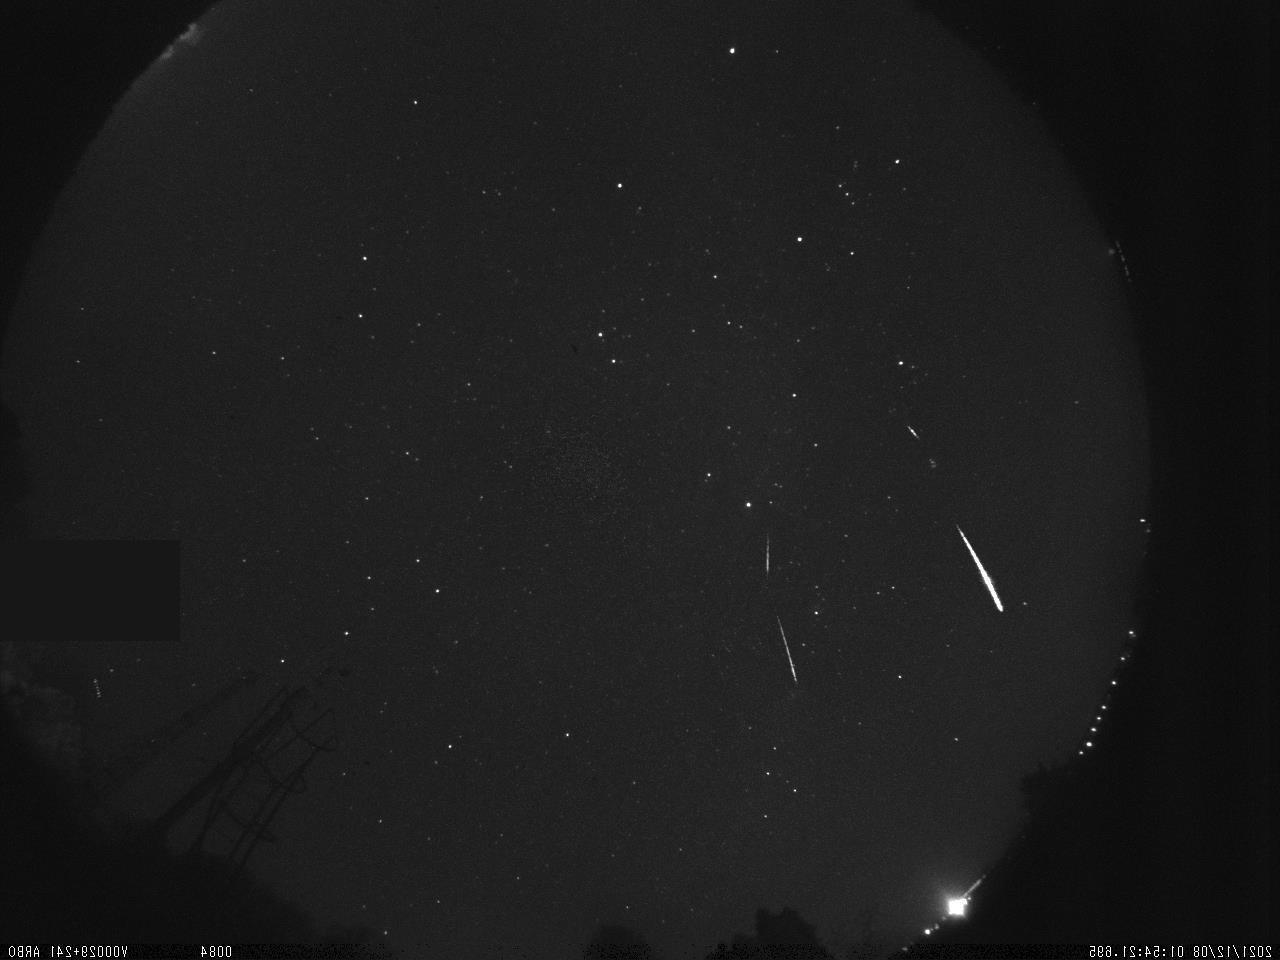meteor: (937, 519, 1010, 621), (772, 609, 805, 689), (757, 534, 780, 576)
